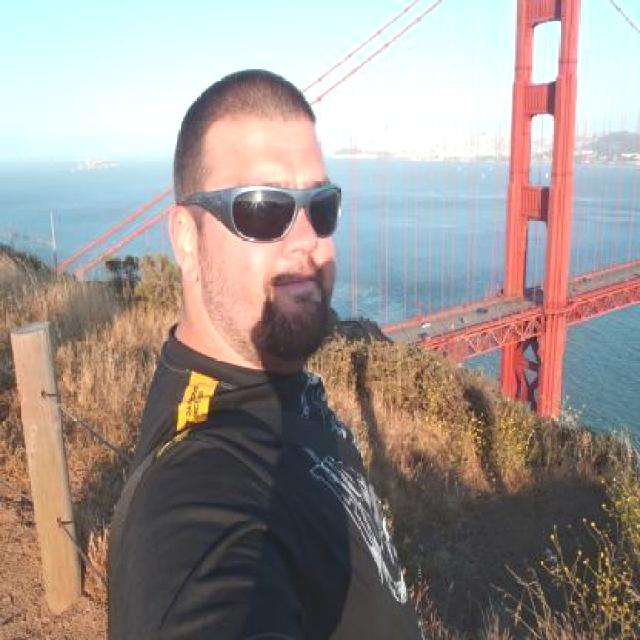face_nomask: (224, 173, 342, 312)
glasses: (175, 168, 338, 245)
head_nohelmet: (184, 65, 319, 153)
person: (102, 74, 443, 640)
